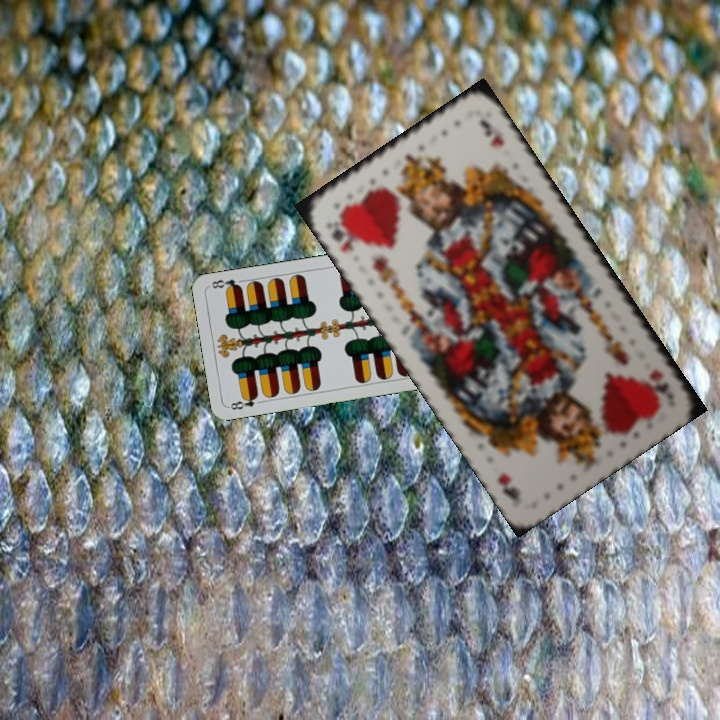E8: (225, 391, 261, 413)
HK: (327, 210, 359, 256), (645, 365, 672, 398)
